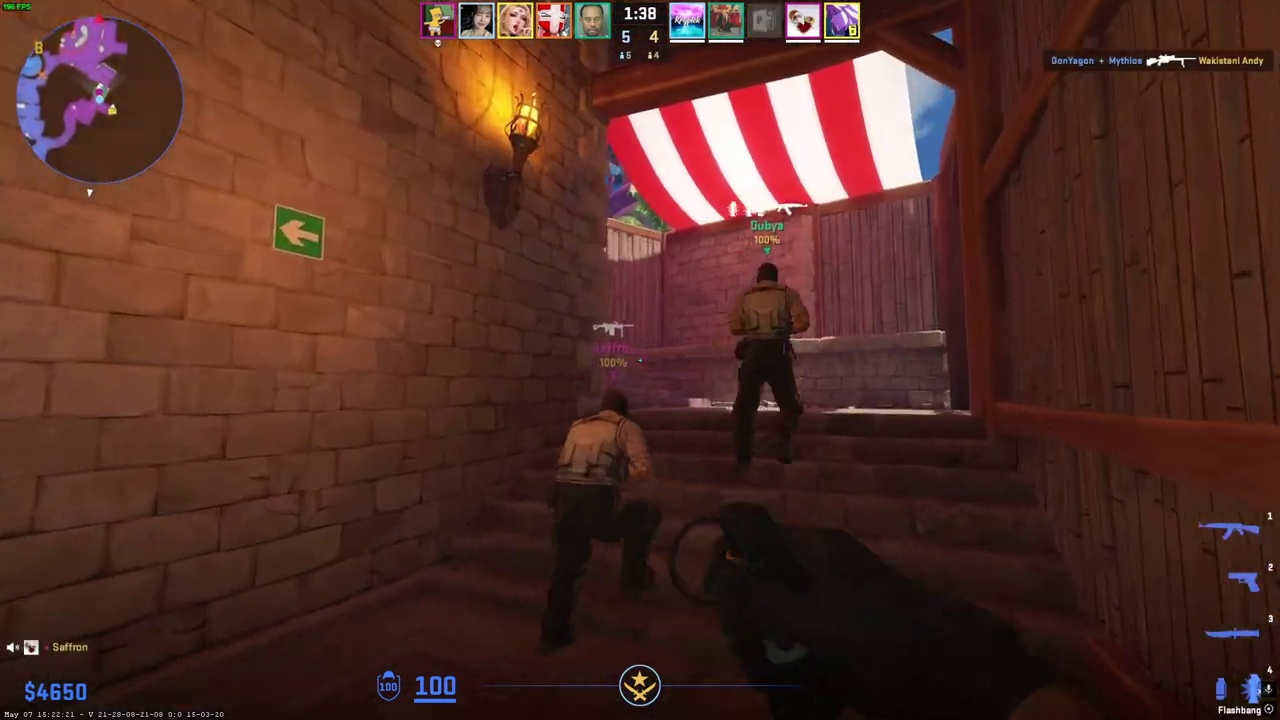Terrorist: (539, 387, 657, 652), (730, 260, 807, 475)
